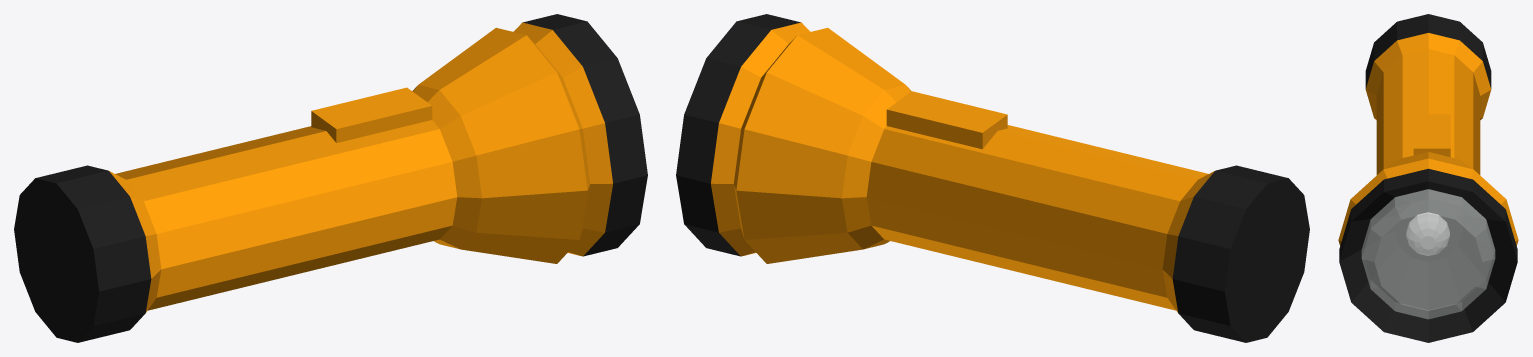
The model's file is flashlight.glb.
3 views of the same model, side by side, from view 1: azimuth 30°, elevation 25°; view 2: azimuth 150°, elevation 25°; view 3: azimuth 270°, elevation 25° (orthographic). The views are drawn at different scales.
Visible parts, largest first — view 1: flashlight:Node; view 2: flashlight:Node; view 3: flashlight:Node.
Boxes of the visible parts, bbox=[...] form: flashlight:Node: bbox=[14, 14, 647, 342]; flashlight:Node: bbox=[676, 14, 1309, 342]; flashlight:Node: bbox=[1338, 14, 1518, 342].
Size of the model in its own units: 0.61 by 0.2431 by 0.2431.
